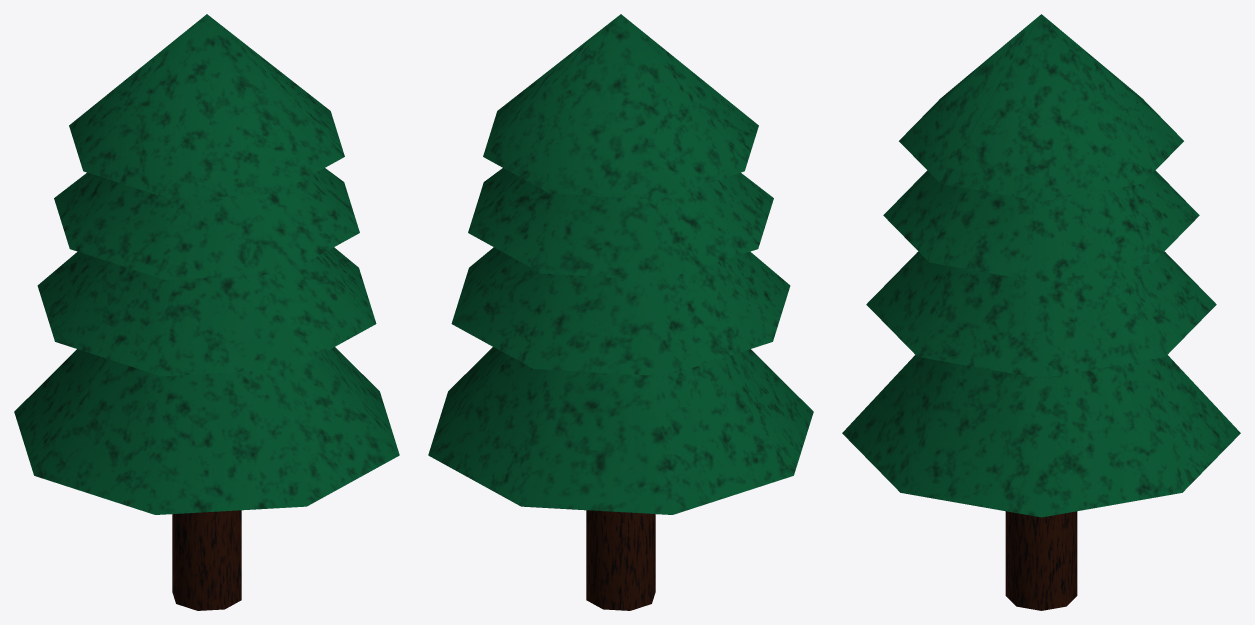
The model's file is Tree1.fbx.
3 renders of one model, left to right at view 1: azimuth 30°, elevation 25°; view 2: azimuth 150°, elevation 25°; view 3: azimuth 270°, elevation 25°, orthographic.
Visible parts, largest first — view 1: Leaves_LOD0, Trunk_LOD0; view 2: Leaves_LOD0, Trunk_LOD0; view 3: Leaves_LOD0, Trunk_LOD0.
Boxes of the visible parts, left/top/right/bottom form: Leaves_LOD0: left=14, top=14, right=399, bottom=514; Trunk_LOD0: left=172, top=510, right=241, bottom=610; Leaves_LOD0: left=428, top=14, right=813, bottom=514; Trunk_LOD0: left=586, top=510, right=655, bottom=610; Leaves_LOD0: left=842, top=14, right=1240, bottom=517; Trunk_LOD0: left=1005, top=511, right=1077, bottom=610.
Size of what is drawn, in the model's own units: 279 by 450 by 279.
